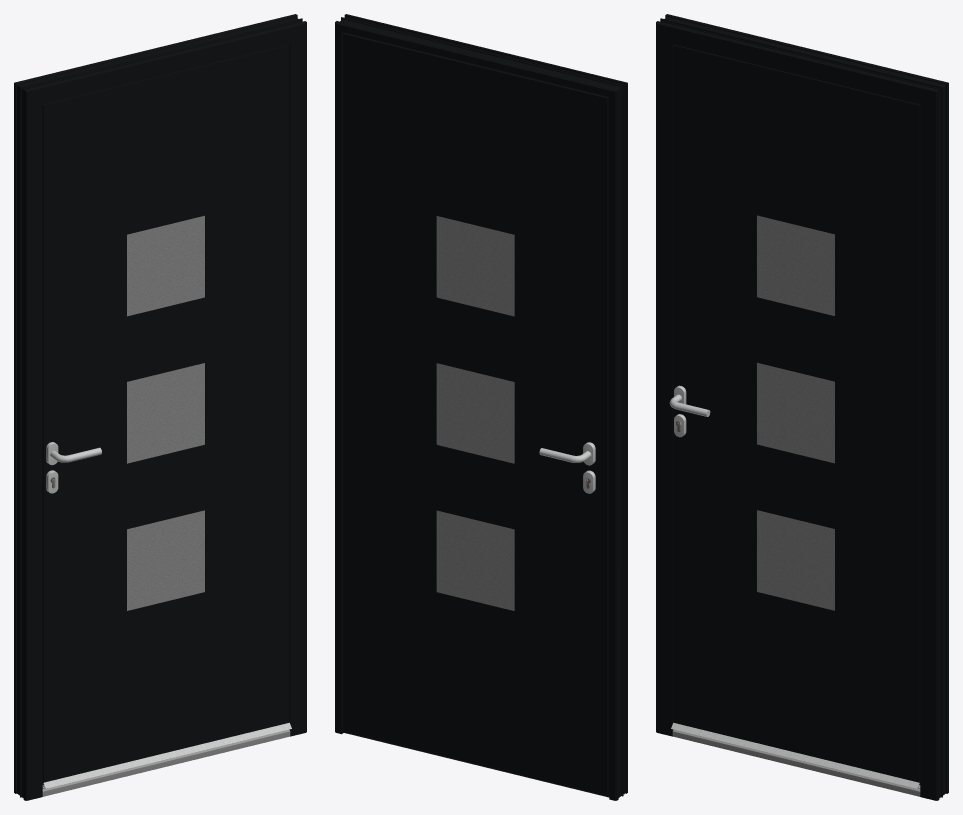
The picture shows the model from 3 angles, left to right: view 1: azimuth 30°, elevation 25°; view 2: azimuth 150°, elevation 25°; view 3: azimuth 330°, elevation 25°; orthographic projection.
Visible parts, largest first — view 1: bloco_79, aroFixo, Plane001, aroMovel, rodapé, escovas, puxador001; view 2: bloco_79, aroFixo, Plane002, aroMovel, puxador; view 3: bloco_79, aroFixo, Plane001, aroMovel, rodapé, escovas, puxador001.
Part boxes in pixels (left/top/right/bottom): bloco_79: left=43, top=46, right=289, bottom=782; aroFixo: left=14, top=14, right=306, bottom=800; Plane001: left=127, top=215, right=204, bottom=610; aroMovel: left=42, top=44, right=289, bottom=784; rodapé: left=42, top=729, right=290, bottom=796; escovas: left=42, top=722, right=291, bottom=788; puxador001: left=46, top=442, right=101, bottom=493; bloco_79: left=343, top=33, right=607, bottom=795; aroFixo: left=335, top=14, right=627, bottom=800; Plane002: left=436, top=216, right=514, bottom=610; aroMovel: left=343, top=32, right=609, bottom=796; puxador: left=539, top=442, right=595, bottom=493; bloco_79: left=673, top=46, right=918, bottom=782; aroFixo: left=656, top=14, right=948, bottom=800; Plane001: left=757, top=215, right=834, bottom=610; aroMovel: left=673, top=44, right=920, bottom=784; rodapé: left=672, top=729, right=920, bottom=796; escovas: left=671, top=722, right=920, bottom=788; puxador001: left=669, top=385, right=710, bottom=437.
Bounding box in the file's own units: 900 × 2165 × 209.
Materials: 7 (3 with a texture image).
